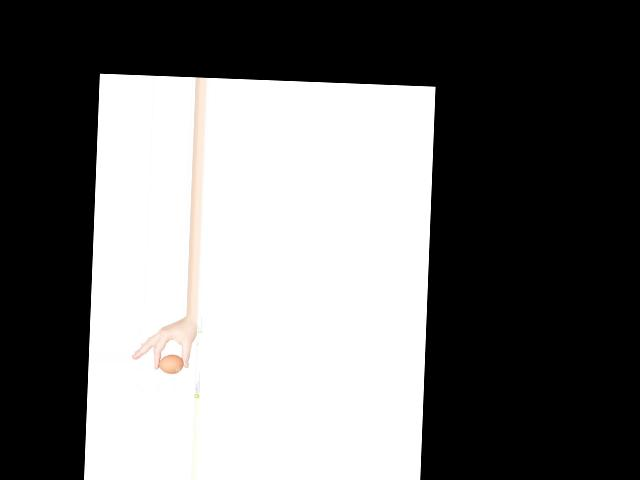egg: (158, 353, 184, 374)
